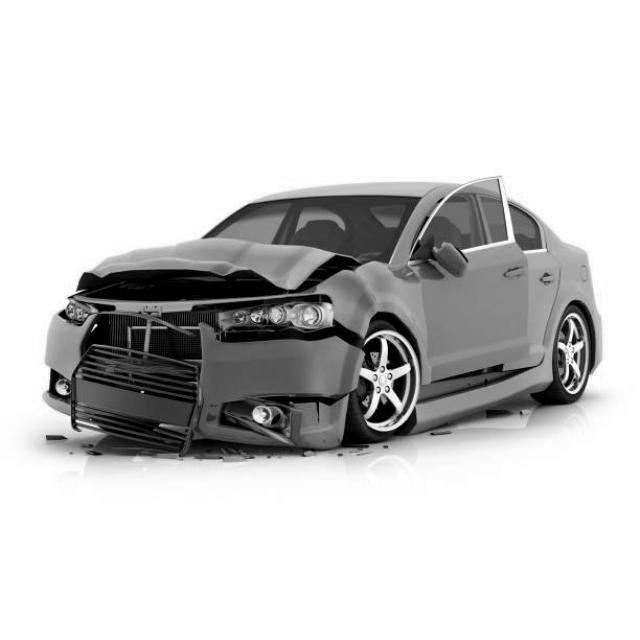bonnet-dent: (81, 240, 354, 303)
doorouter-dent: (424, 179, 527, 376)
fender-dent: (333, 263, 401, 333)
front-bumper-dent: (72, 315, 204, 451), (217, 380, 354, 444)
